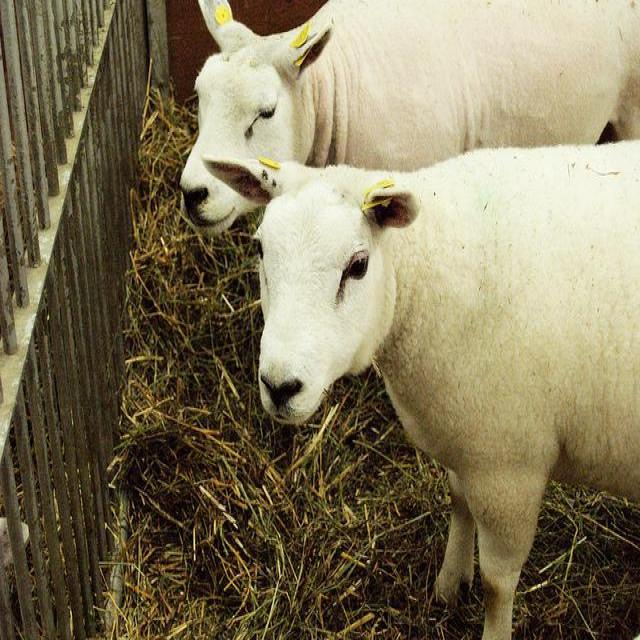Sheep: (204, 145, 639, 639), (182, 1, 639, 238)
